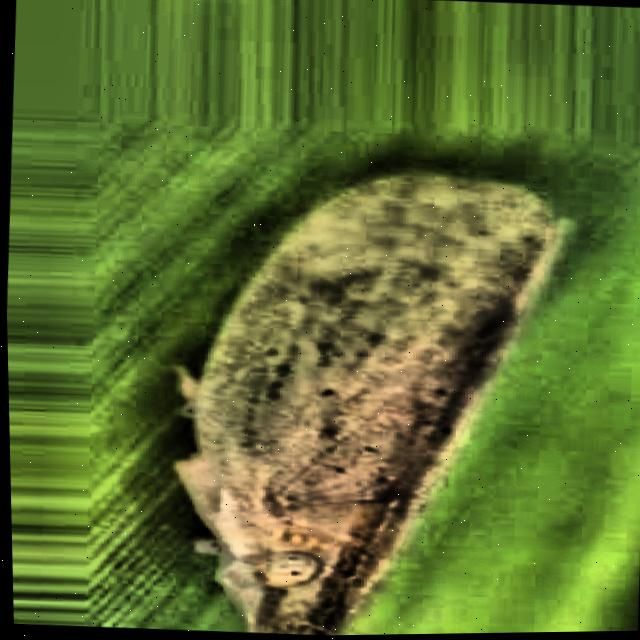Pyrilla-perpusilla: (89, 114, 640, 639)
